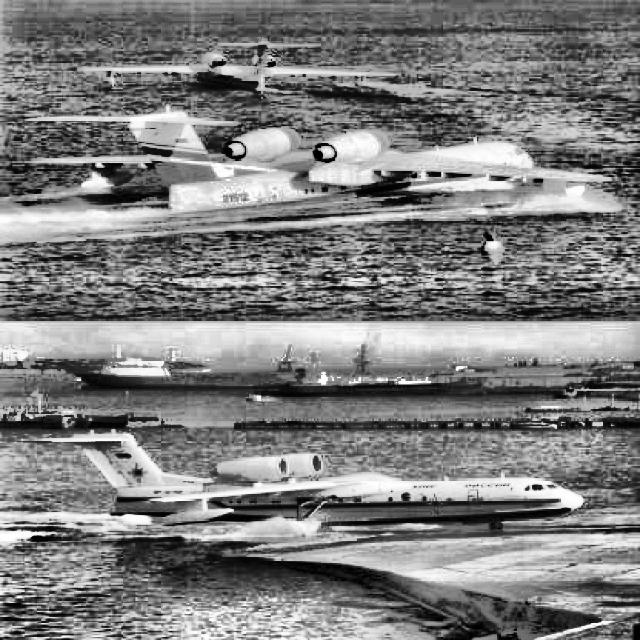Be200: (21, 106, 613, 217), (21, 429, 584, 536), (76, 38, 402, 91)
